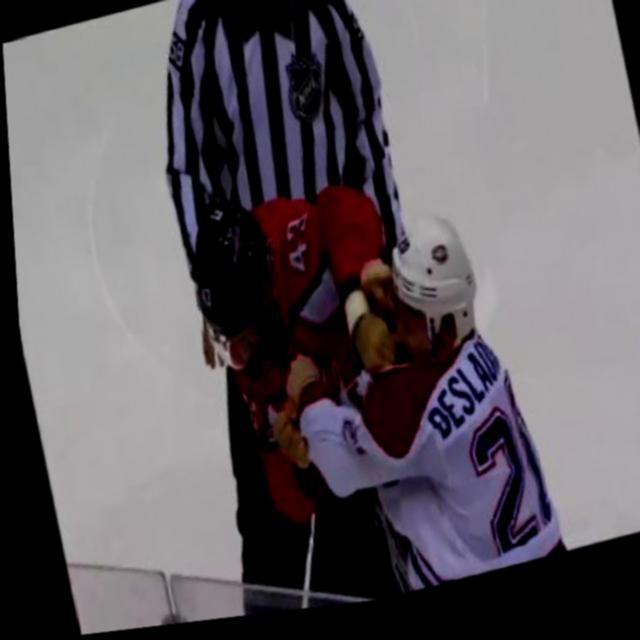fight: (170, 134, 564, 625)
